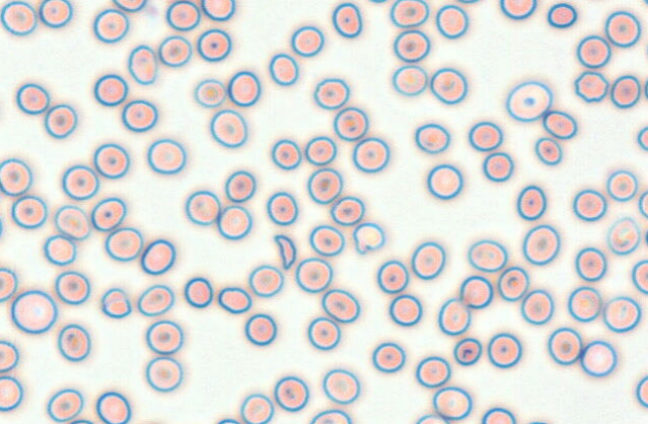RBC: (10, 289, 57, 334), (505, 80, 552, 122), (522, 223, 560, 265), (146, 137, 186, 174), (209, 109, 247, 147), (602, 295, 641, 332), (294, 256, 332, 293), (429, 67, 467, 104), (580, 340, 617, 377), (426, 163, 463, 200), (352, 136, 389, 173), (604, 10, 641, 47), (145, 356, 183, 392), (322, 368, 360, 404), (61, 164, 99, 200), (547, 326, 582, 365), (321, 288, 360, 323), (104, 226, 143, 261), (432, 386, 472, 420), (467, 238, 507, 272), (306, 167, 342, 204), (273, 375, 309, 412), (93, 142, 129, 179), (145, 319, 183, 354), (410, 241, 445, 279), (606, 216, 640, 255), (184, 189, 220, 225), (216, 204, 252, 240), (54, 204, 90, 240), (0, 0, 37, 35), (140, 238, 175, 275), (437, 297, 471, 335), (57, 323, 91, 361), (487, 332, 522, 368), (332, 106, 368, 141), (90, 196, 126, 231), (11, 194, 47, 229), (46, 388, 83, 422), (567, 285, 601, 322), (520, 288, 554, 325), (392, 29, 430, 62), (0, 157, 32, 196), (93, 8, 128, 43), (54, 270, 90, 304), (137, 283, 174, 316), (121, 99, 158, 132), (127, 44, 157, 84), (196, 28, 231, 62), (576, 34, 611, 68), (415, 355, 451, 388), (248, 264, 284, 297), (313, 76, 349, 109), (227, 70, 260, 106), (459, 275, 493, 309), (44, 103, 77, 138), (574, 246, 607, 281), (572, 188, 607, 221), (93, 73, 128, 106), (435, 4, 468, 39), (95, 391, 131, 423), (414, 122, 450, 154), (308, 224, 344, 256), (391, 64, 427, 96), (307, 316, 340, 350), (388, 293, 422, 326), (376, 259, 409, 293), (497, 266, 529, 301), (574, 70, 609, 102), (389, 0, 429, 28), (266, 190, 298, 225), (331, 2, 362, 38), (467, 120, 503, 151), (244, 313, 277, 346), (371, 341, 405, 373), (15, 82, 49, 114), (290, 25, 324, 57), (158, 35, 192, 67), (165, 0, 200, 31), (516, 184, 546, 220), (43, 233, 76, 265), (224, 169, 256, 202), (330, 195, 364, 226), (610, 74, 641, 108), (239, 393, 274, 423), (542, 109, 577, 139), (270, 138, 302, 170), (268, 52, 299, 85), (606, 169, 637, 201), (217, 286, 252, 314), (38, 0, 73, 28), (100, 287, 131, 318), (482, 151, 513, 182), (183, 276, 213, 308), (304, 135, 336, 165), (194, 78, 226, 107), (453, 337, 482, 366), (0, 375, 23, 411), (534, 136, 562, 165), (546, 2, 577, 28), (499, 0, 537, 20), (201, 0, 235, 21), (0, 266, 18, 302), (309, 408, 351, 423), (0, 339, 19, 372), (631, 259, 647, 294), (481, 407, 515, 423), (111, 0, 146, 12), (635, 374, 647, 408), (415, 413, 447, 423), (636, 125, 647, 151), (638, 189, 647, 218), (67, 418, 94, 424), (524, 419, 553, 424), (216, 417, 240, 423), (643, 75, 648, 100), (643, 224, 648, 247), (453, 0, 481, 4), (0, 212, 4, 239), (644, 41, 648, 63), (366, 0, 388, 3)
Schistocyte: (356, 224, 384, 255), (273, 233, 297, 269)
